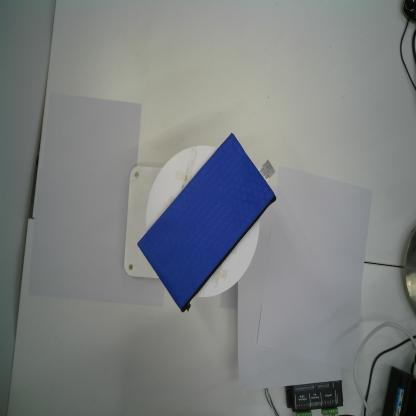Stationery: (134, 129, 278, 315)
